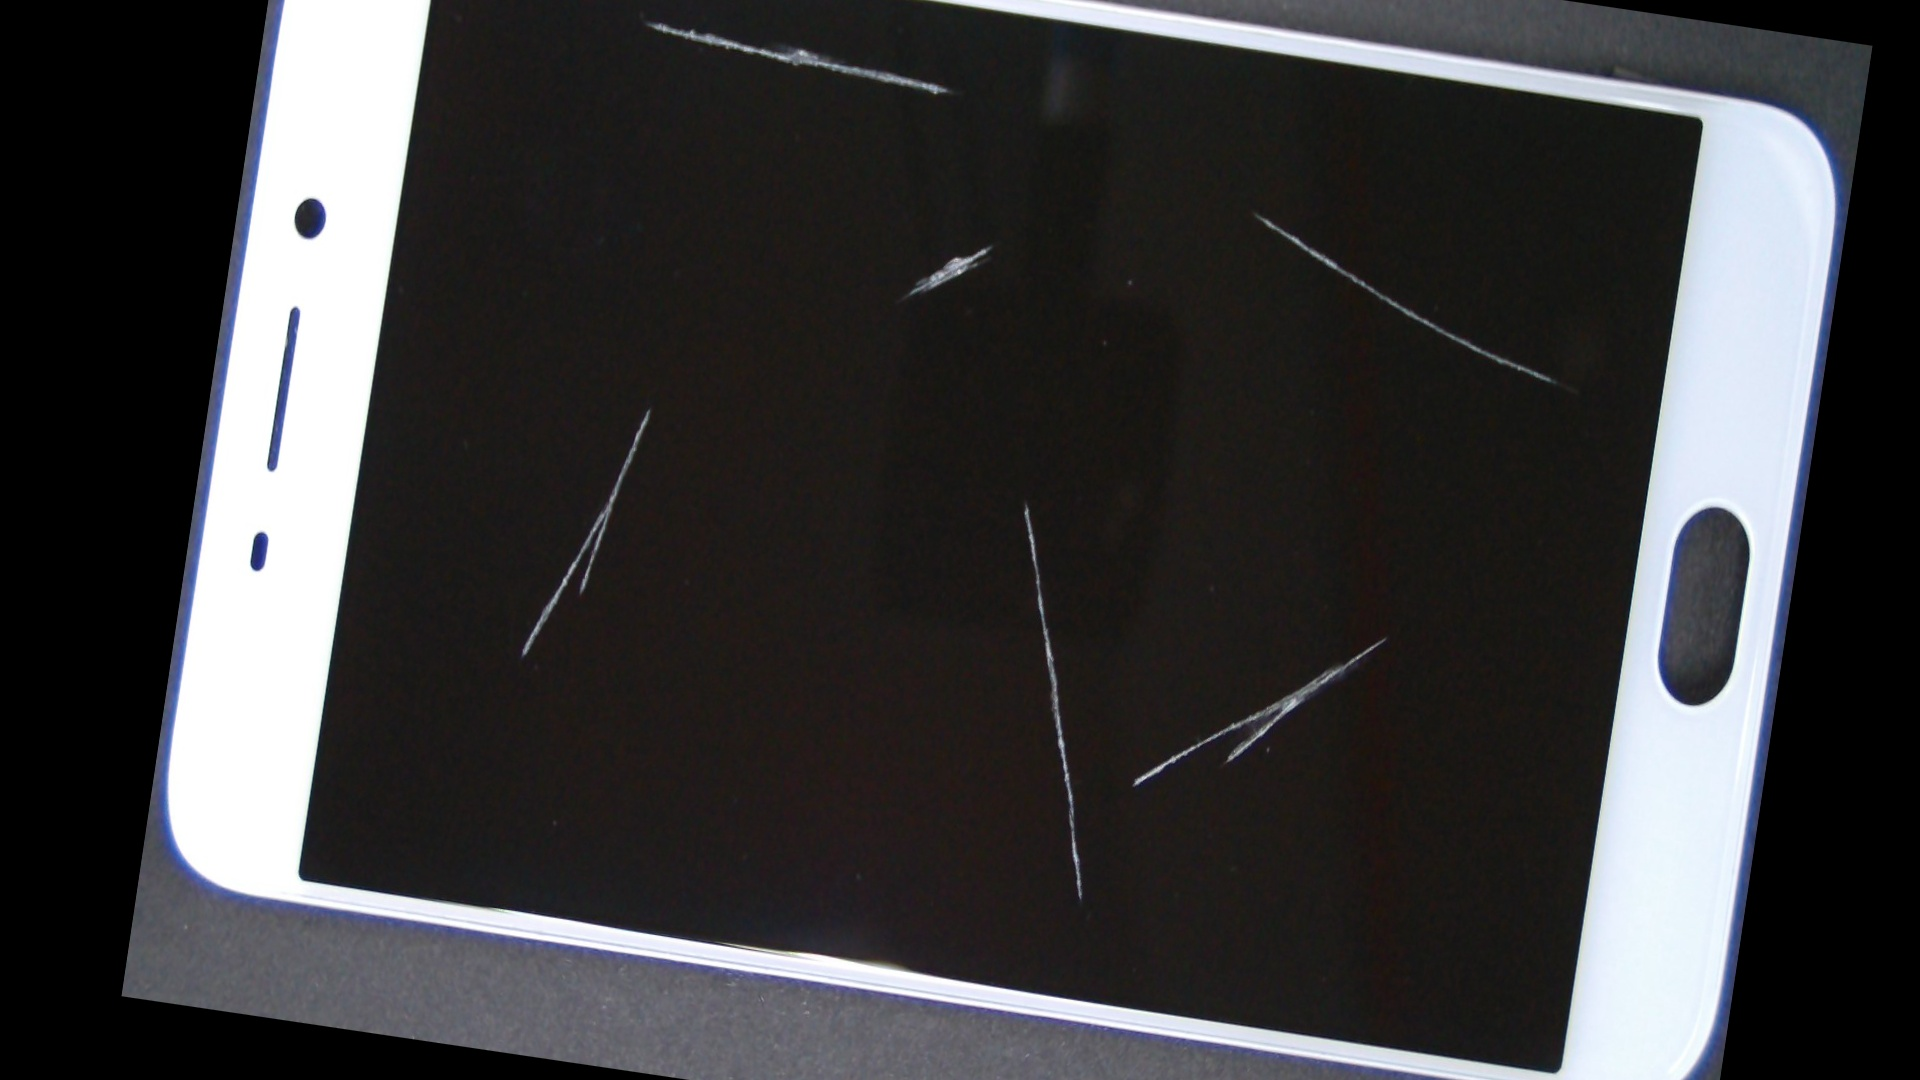oil: (746, 224, 1825, 1019), (578, 157, 1474, 847), (738, 12, 1772, 414), (597, 29, 1387, 462), (396, 109, 902, 707), (456, 0, 865, 127)
